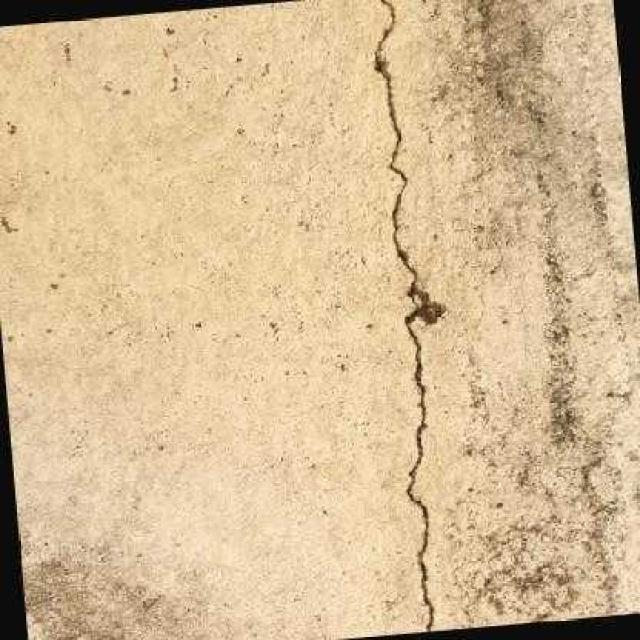D00: (367, 0, 438, 632)
